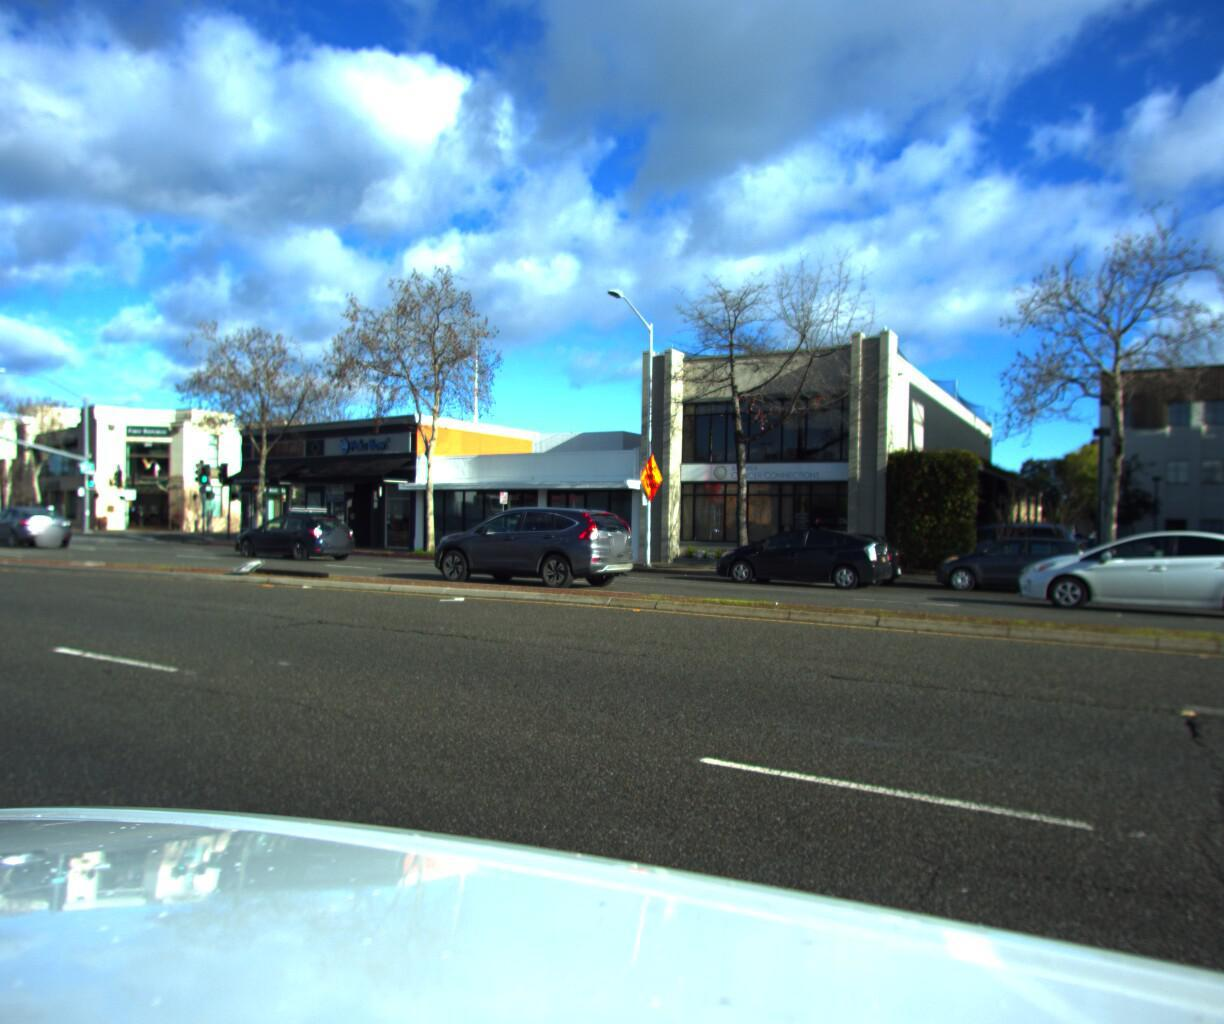car: (1004, 522, 1224, 628), (415, 498, 644, 593), (702, 510, 899, 588), (922, 530, 1100, 601), (755, 524, 909, 590), (923, 515, 1085, 573), (225, 501, 361, 561), (0, 501, 76, 545)
